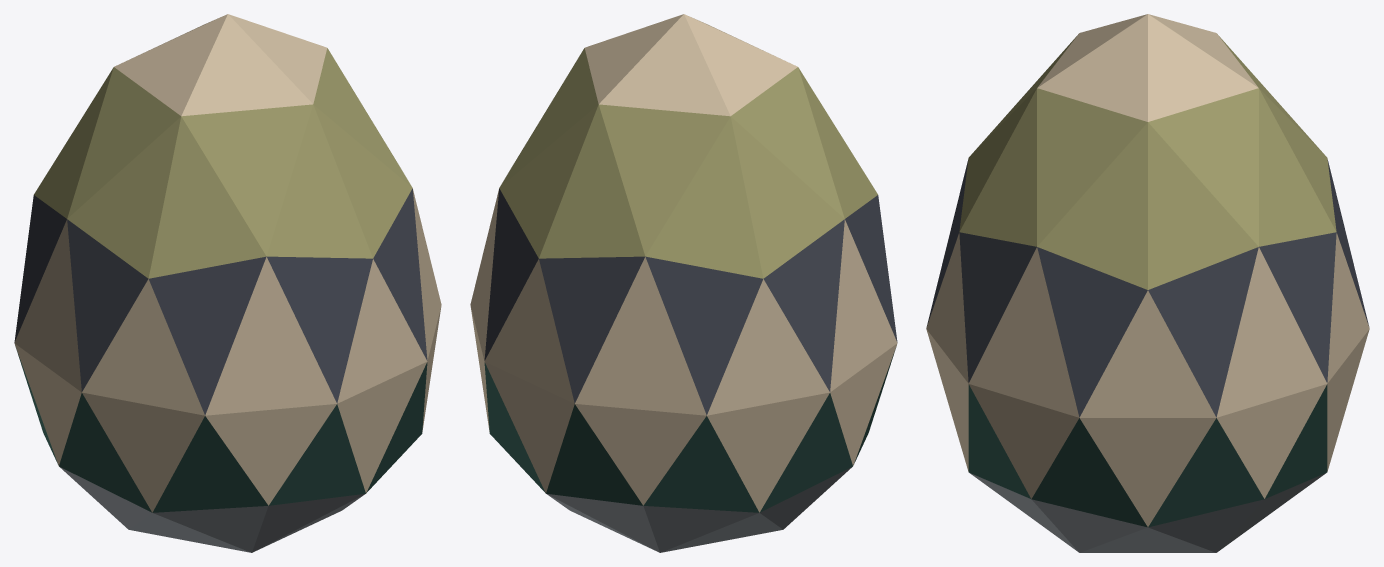
Rendered from LightStoneDecorationSmallEasterEgg1.fbx.
The picture shows the model from 3 angles, left to right: view 1: azimuth 30°, elevation 25°; view 2: azimuth 150°, elevation 25°; view 3: azimuth 270°, elevation 25°; orthographic projection.
Parts seen in each view (by area): view 1: LightStoneDecorationSmallEasterEgg1; view 2: LightStoneDecorationSmallEasterEgg1; view 3: LightStoneDecorationSmallEasterEgg1.
Boxes of the visible parts, left/top/right/bottom form: LightStoneDecorationSmallEasterEgg1: left=14, top=14, right=441, bottom=552; LightStoneDecorationSmallEasterEgg1: left=470, top=14, right=897, bottom=552; LightStoneDecorationSmallEasterEgg1: left=926, top=14, right=1369, bottom=552.
Bounding box in the file's own units: 80.82 × 112 × 84.98.
